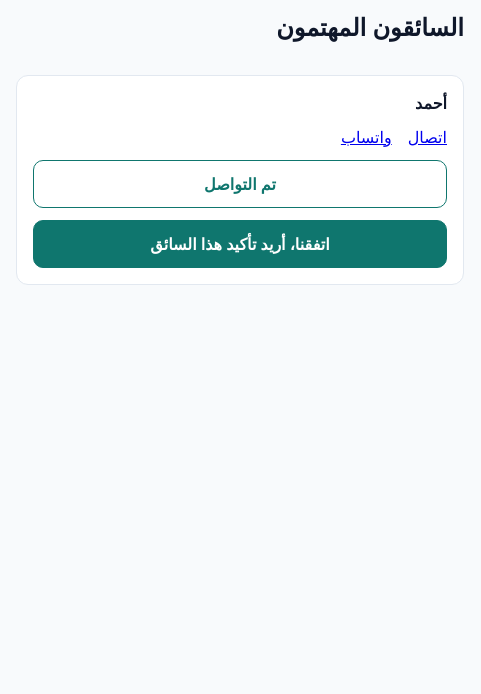
InterestedDrivers › shows the server conflict and reloads the list when confirmation fails
The width and height of the screenshot is (481, 694).
Click the button "اتفقنا، أريد تأكيد هذا السائق" at [240, 244], box [33,220,447,268]
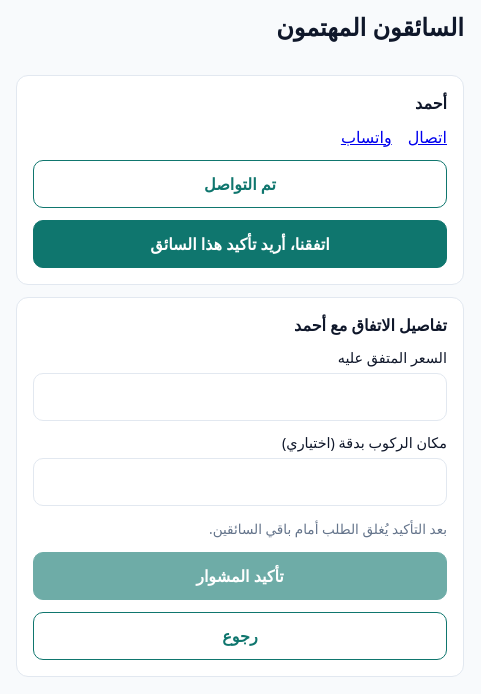
Type "40" into the number field labelled "السعر المتفق عليه" at [240, 397], box [33,373,447,421]
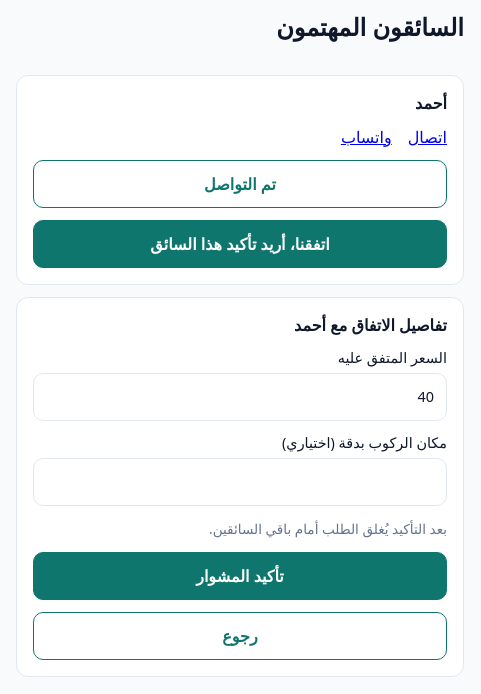
Submit the form, box [16,297,464,677]
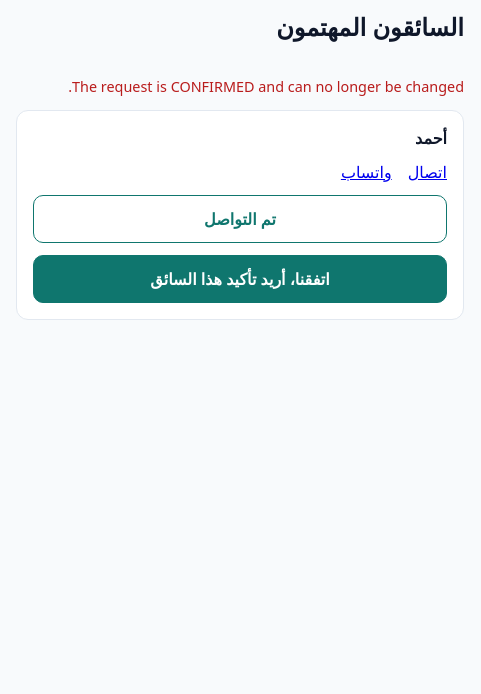
Now the text "can no longer be changed" is shown, box [68,77,464,96]
